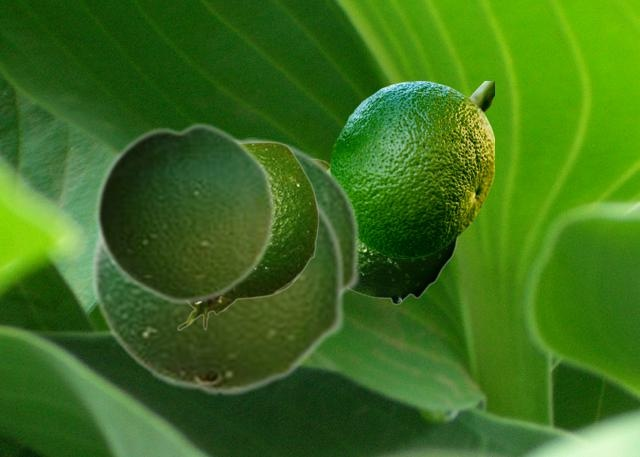dalandan: (90, 195, 345, 396), (94, 120, 276, 305), (330, 81, 493, 257), (176, 141, 318, 330), (240, 137, 360, 296), (353, 237, 458, 304)
